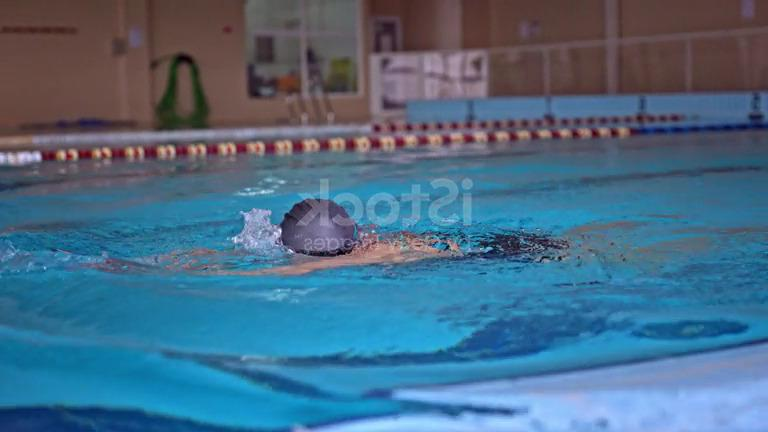Swimming: (79, 105, 694, 289)
